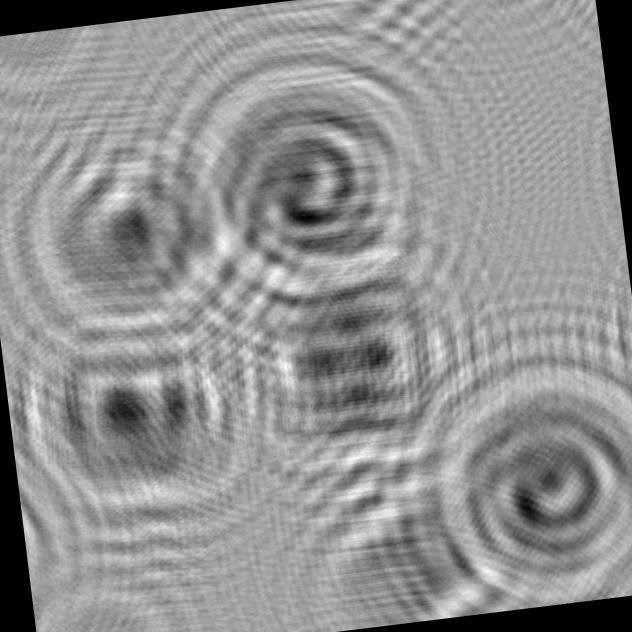F: (0, 278, 276, 540)
G: (149, 34, 460, 330), (402, 326, 632, 620)
H: (216, 246, 482, 475)
I: (285, 429, 527, 632)
J: (0, 87, 245, 366)
